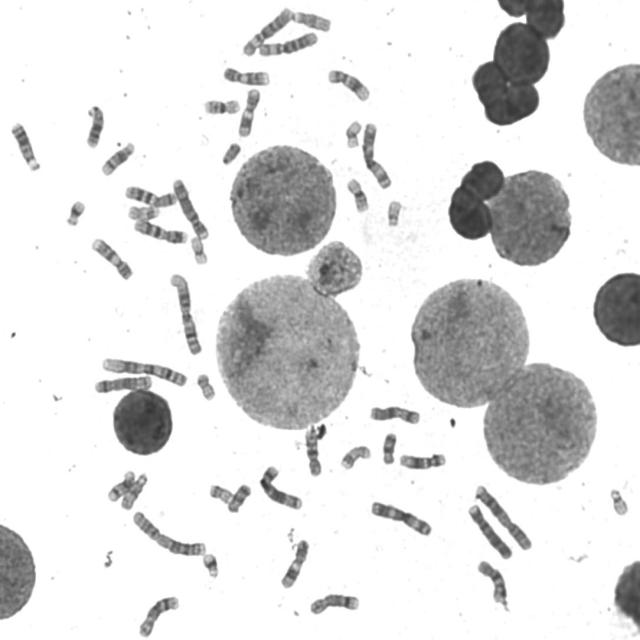A1: (166, 268, 204, 356), (98, 353, 188, 388)
A2: (472, 481, 534, 552), (129, 507, 208, 558)
A3: (367, 497, 435, 538), (359, 119, 394, 190)
B4: (465, 500, 514, 561), (169, 174, 211, 241)
B5: (257, 457, 310, 514), (92, 371, 154, 394)
C10: (474, 557, 509, 605), (303, 423, 323, 478)
C11: (278, 535, 311, 590), (235, 84, 262, 138)
C12: (325, 64, 372, 102), (396, 449, 448, 471)
C6: (238, 2, 294, 57), (256, 27, 318, 58)
C7: (130, 216, 189, 245), (122, 182, 178, 208)
C8: (135, 592, 181, 638), (306, 590, 362, 616)
C9: (88, 234, 134, 281), (220, 62, 272, 86)
D13: (8, 118, 41, 172), (82, 101, 106, 149)
D14: (98, 138, 136, 177), (104, 467, 137, 502)
D15: (117, 469, 149, 511), (289, 6, 333, 33)
E16: (343, 174, 371, 213), (200, 95, 242, 116)
E17: (337, 441, 373, 471), (125, 201, 161, 221)
E18: (224, 480, 253, 514), (379, 429, 399, 466)
F19: (187, 233, 210, 266), (343, 116, 363, 150)
F20: (194, 368, 217, 402), (206, 480, 234, 505)
G21: (62, 196, 87, 228), (199, 550, 221, 579)
G22: (606, 484, 631, 516), (384, 196, 404, 228)
X: (367, 402, 422, 425)
Y: (218, 138, 242, 166)
